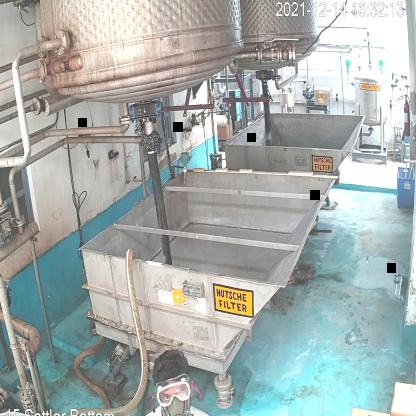goggles: (152, 377, 192, 407)
mask: (160, 395, 196, 416)
